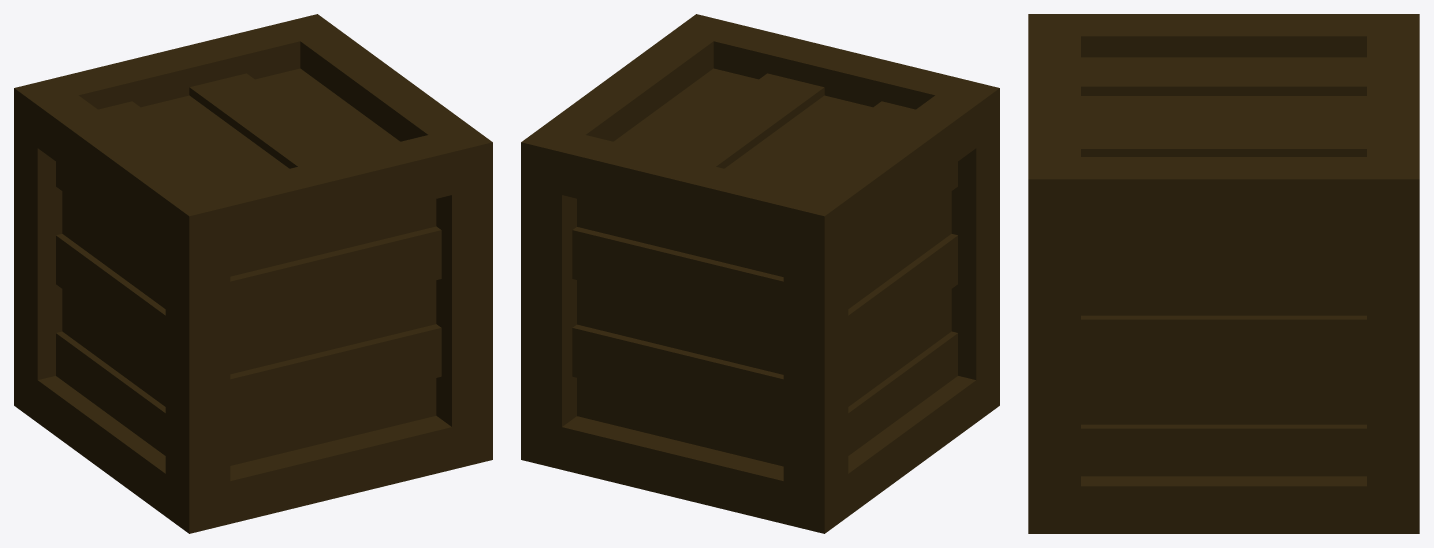
The model's file is WoodCrate.fbx.
The picture shows the model from 3 angles, left to right: view 1: azimuth 30°, elevation 25°; view 2: azimuth 150°, elevation 25°; view 3: azimuth 270°, elevation 25°; orthographic projection. The views are drawn at different scales.
Visible parts, largest first — view 1: Cube; view 2: Cube; view 3: Cube.
Boxes of the visible parts, x1=… form: Cube: x1=14, y1=14, x2=492, y2=533; Cube: x1=521, y1=14, x2=999, y2=533; Cube: x1=1028, y1=14, x2=1419, y2=533.
Bounding box in the file's own units: 200 × 200 × 200.
